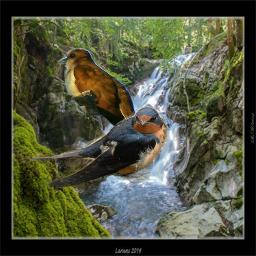Cuckoo: (58, 48, 138, 142)
Swallow: (22, 106, 168, 187)
